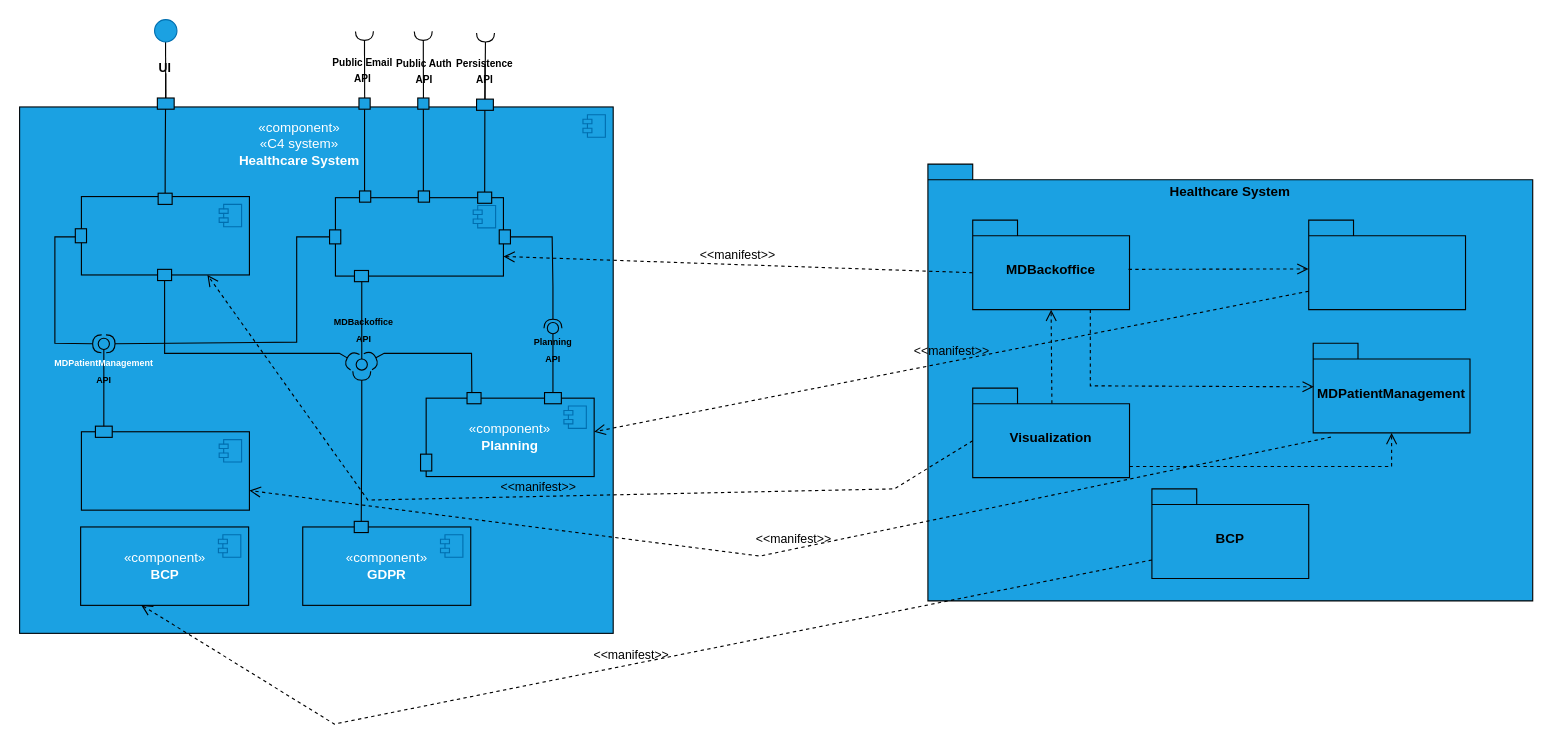
The diagram is 1552 pixels wide and 755 high, and some of its shapes have lost their labels. Here are the shapes that lost their labels. From the top down, the centre of each, then its label:
At (x=164, y=235): "«component» Visualization".
At (x=418, y=236): "«component» MDBackoffice".
At (x=1387, y=264): "Planning".
At (x=164, y=470): "«component» MDPatientManagement".
